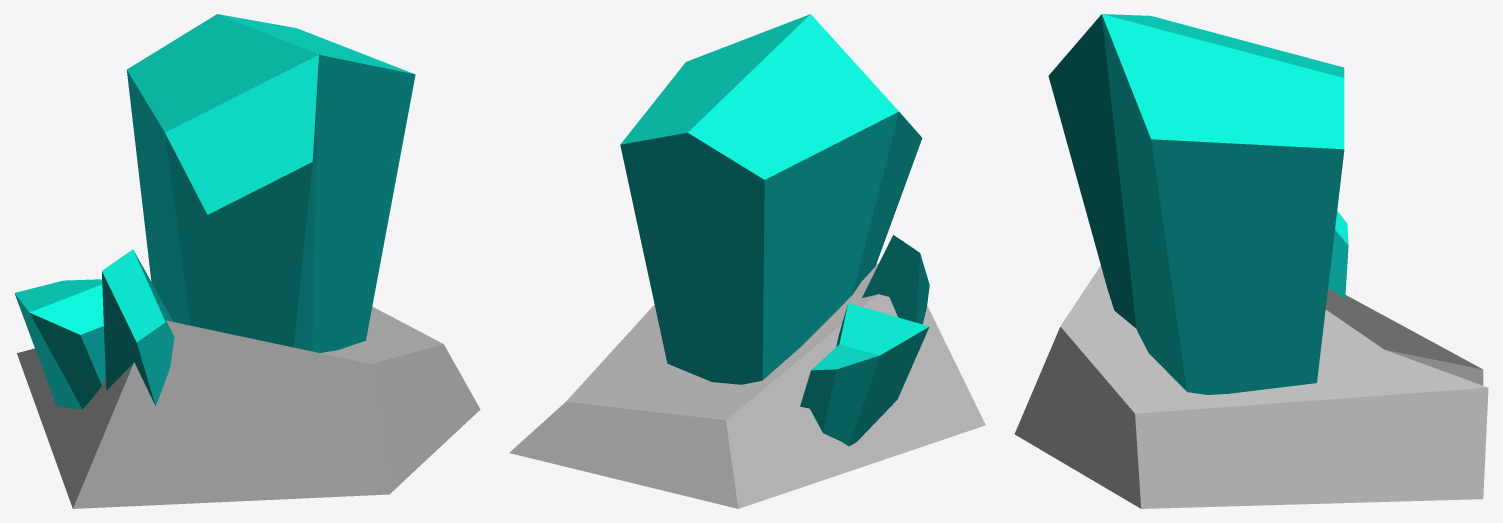
The model's file is Crystal_Alt2.fbx.
The picture shows the model from 3 angles, left to right: view 1: azimuth 30°, elevation 25°; view 2: azimuth 150°, elevation 25°; view 3: azimuth 270°, elevation 25°; orthographic projection. The views are drawn at different scales.
Visible parts, largest first — view 1: Crystal1_Alt2; view 2: Crystal1_Alt2; view 3: Crystal1_Alt2.
Part boxes in pixels (x1,y1,x2,y2): Crystal1_Alt2: [14, 14, 480, 508]; Crystal1_Alt2: [509, 14, 985, 508]; Crystal1_Alt2: [1014, 14, 1488, 508].
Bounding box in the file's own units: 1.05 × 1.02 × 1.07.
